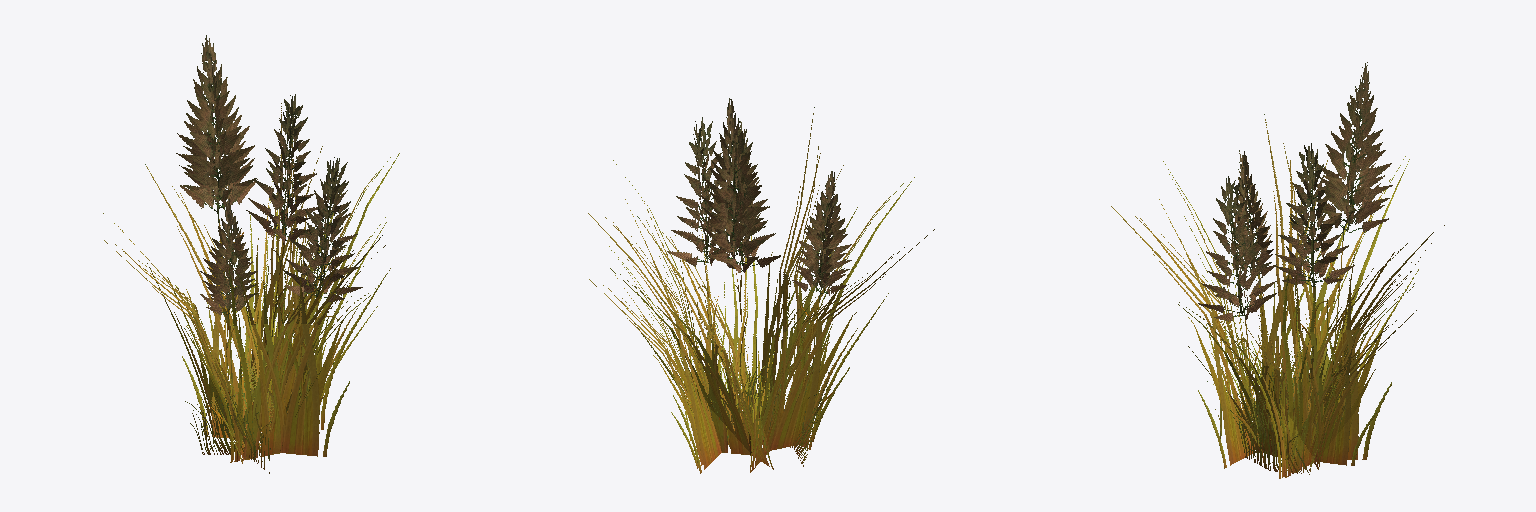
3 views of the same model, side by side, from view 1: azimuth 30°, elevation 25°; view 2: azimuth 150°, elevation 25°; view 3: azimuth 270°, elevation 25° (orthographic).
Visible parts, largest first — view 1: SM_Grass_03_Plane.898; view 2: SM_Grass_03_Plane.898; view 3: SM_Grass_03_Plane.898.
Part boxes in pixels (x1,y1,x2,y2): SM_Grass_03_Plane.898: (103,35,399,473); SM_Grass_03_Plane.898: (588,98,934,473); SM_Grass_03_Plane.898: (1111,62,1444,478).
Size of the model in its own units: 0.9855 by 1.11 by 0.9193.
Materials: 1 (1 with a texture image).